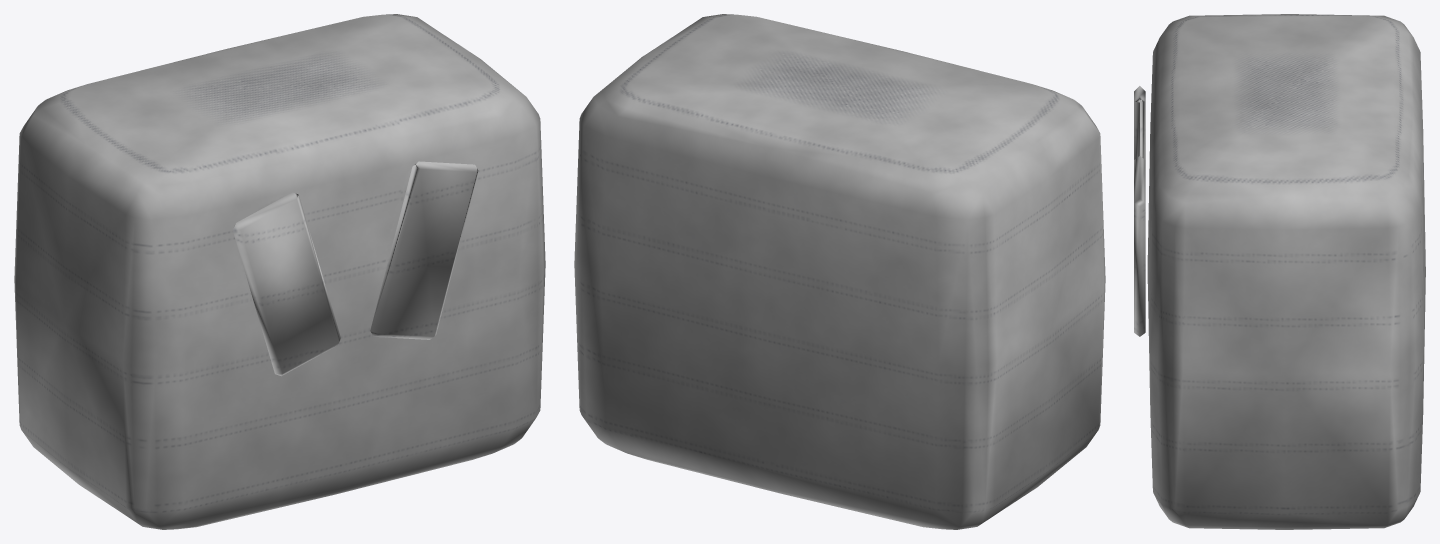
Rendered from UpperTorso_C1.fbx.
3 views of the same model, side by side, from view 1: azimuth 30°, elevation 25°; view 2: azimuth 150°, elevation 25°; view 3: azimuth 270°, elevation 25° (orthographic). The views are drawn at different scales.
Visible parts, largest first — view 1: Civ_SacoOficina_UpperTorso_C1; view 2: Civ_SacoOficina_UpperTorso_C1; view 3: Civ_SacoOficina_UpperTorso_C1.
Boxes of the visible parts, <box> form: Civ_SacoOficina_UpperTorso_C1: <box>14,14,545,529</box>; Civ_SacoOficina_UpperTorso_C1: <box>574,14,1105,529</box>; Civ_SacoOficina_UpperTorso_C1: <box>1134,14,1425,529</box>.
Bounding box in the file's own units: 2.23 × 1.84 × 1.35.
